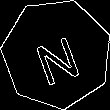N_N: (29, 23, 84, 84)
